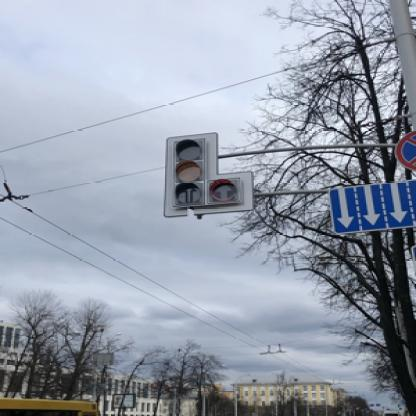trafficlight: (169, 136, 243, 209)
